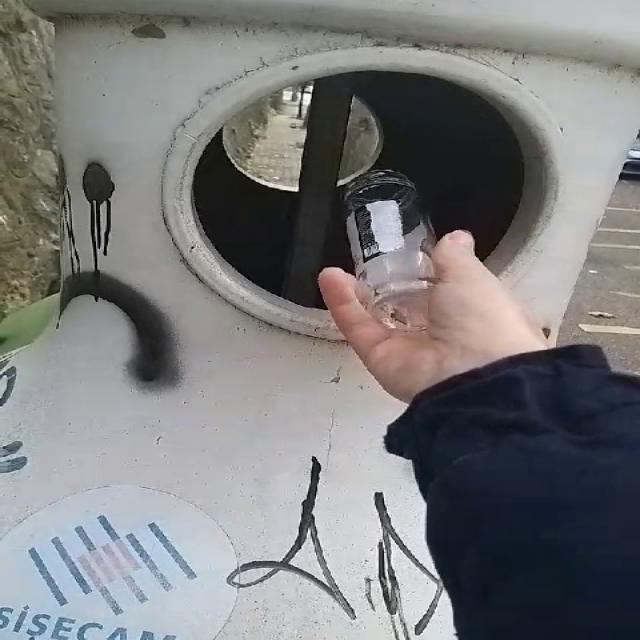Glass: (344, 170, 435, 330)
